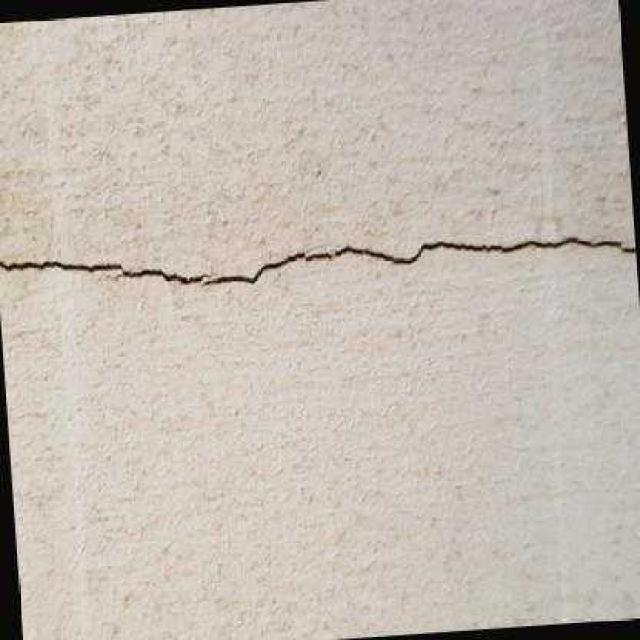D00: (0, 236, 636, 286)
